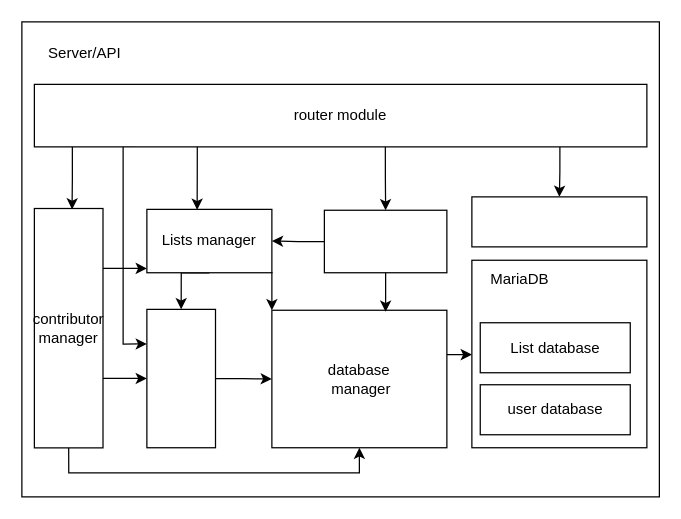
This 681x519 diagram has some shape labels left out. The shapes that lost their labels are listed below. From the top down, each one's centre as x and y in pixels, then its label:
At point (385, 241): "To do manager".
At point (559, 221): "jwt token manager".
At point (181, 378): "User manager".
